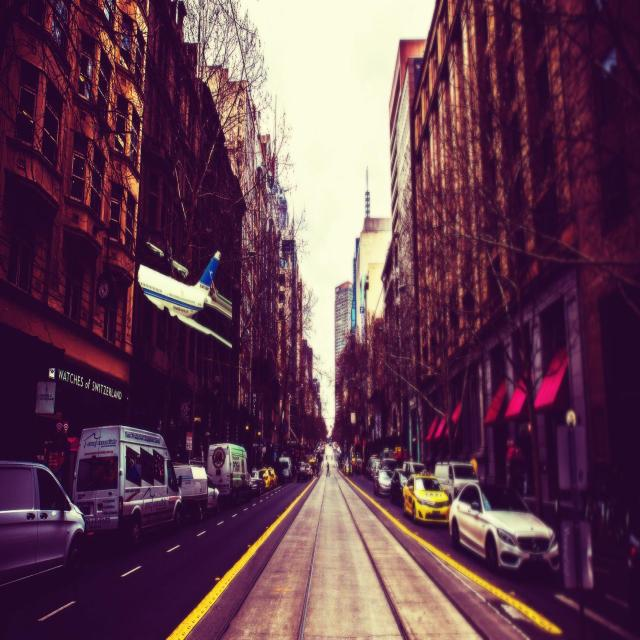airplane: (136, 244, 234, 349)
